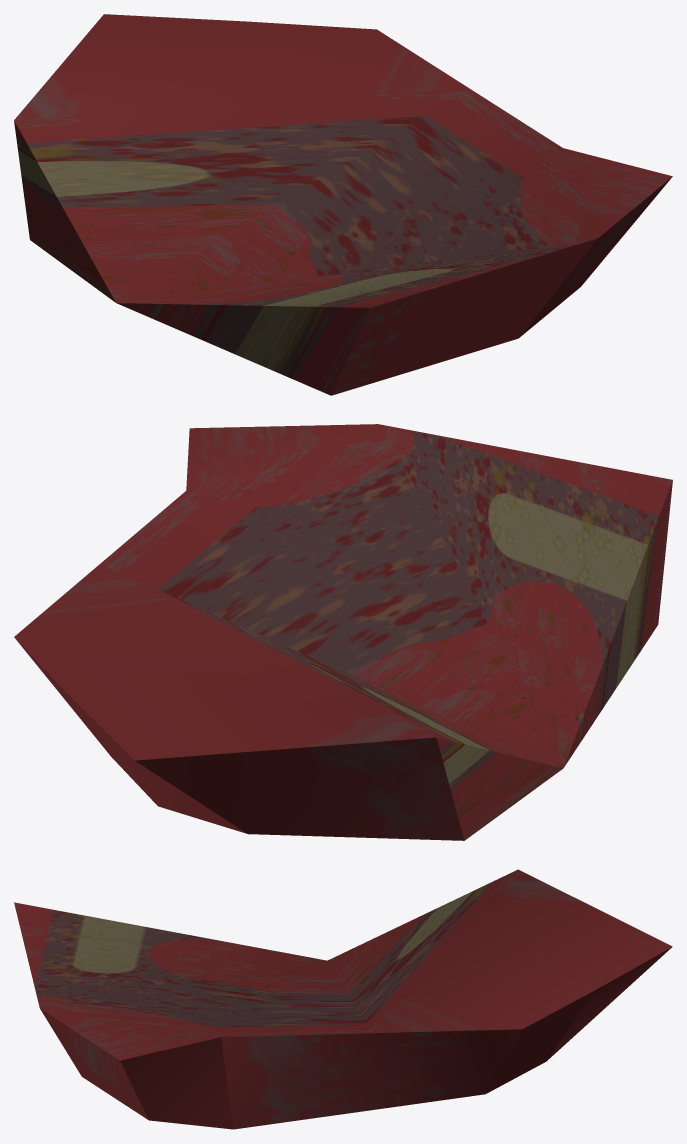
Rendered from ishi_03_10_3.fbx.
3 views of the same model, one above another, from view 1: azimuth 30°, elevation 25°; view 2: azimuth 150°, elevation 25°; view 3: azimuth 270°, elevation 25° (orthographic). The views are drawn at different scales.
Parts seen in each view (by area): view 1: polySurface45; view 2: polySurface45; view 3: polySurface45.
Boxes of the visible parts, x1,y1,x2,y2 form: polySurface45: (14,14,672,395); polySurface45: (14,424,672,840); polySurface45: (14,869,672,1129).
Bounding box in the file's own units: 11.42 × 2.57 × 16.48.
1 material, 1 textured.
